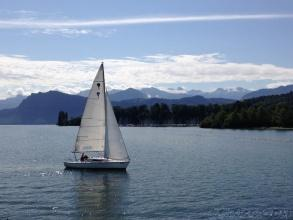fanchuan: (60, 58, 139, 170)
